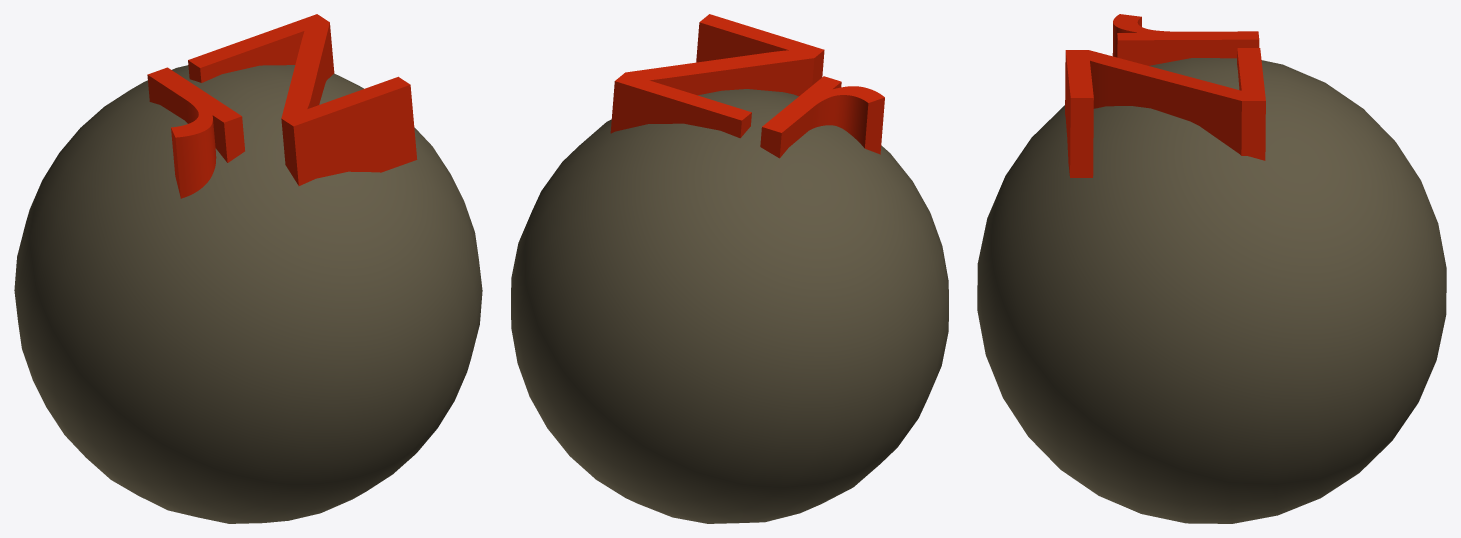
The picture shows the model from 3 angles, left to right: view 1: azimuth 30°, elevation 25°; view 2: azimuth 150°, elevation 25°; view 3: azimuth 270°, elevation 25°; orthographic projection. The views are drawn at different scales.
Visible parts, largest first — view 1: Zr; view 2: Zr; view 3: Zr.
Part boxes in pixels (x1,y1,x2,y2): Zr: (14, 14, 482, 523); Zr: (511, 14, 948, 523); Zr: (977, 14, 1446, 523).
Bounding box in the file's own units: 38.64 × 40.72 × 38.6.
